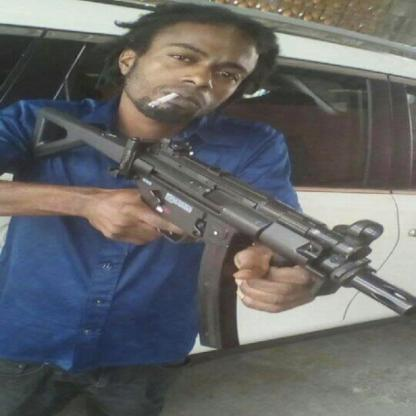criminal: (0, 1, 416, 416)
weapon: (30, 109, 416, 349)
